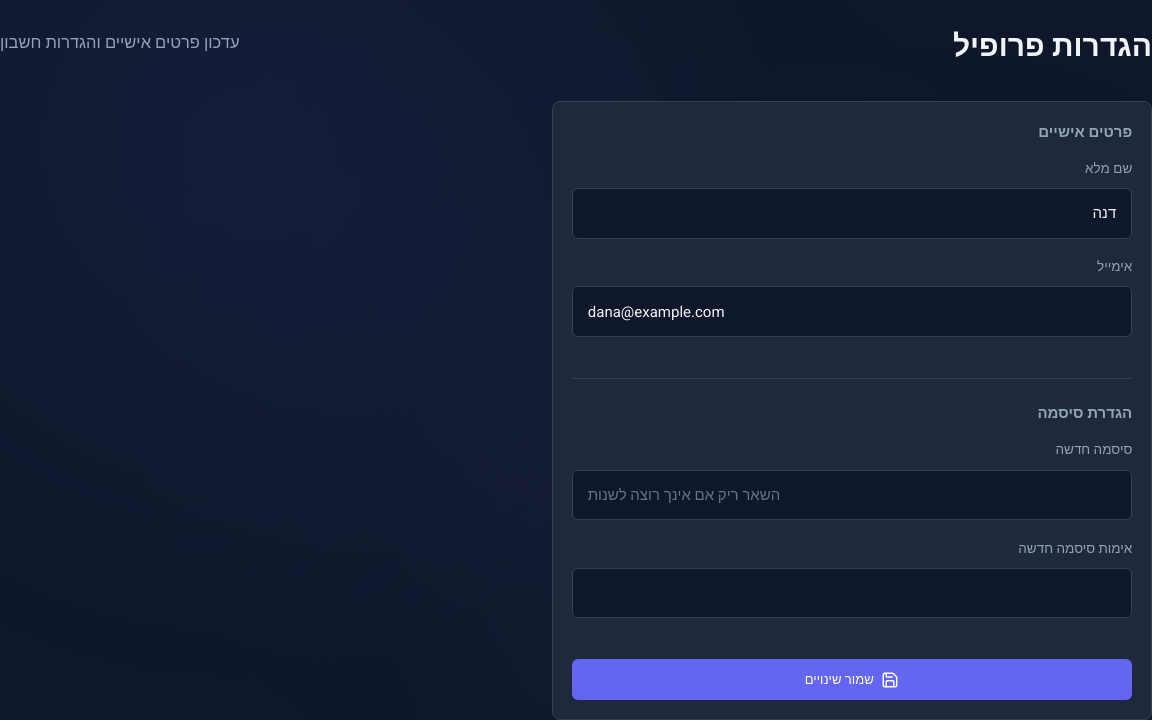
Test: Profile - password › a passkey-only account sets a first password without a current one
The width and height of the screenshot is (1152, 720).
Expected: the heading "הגדרת סיסמה" is shown, left=1037, top=402, right=1132, bottom=424
Expected: the field labelled "סיסמה נוכחית" is not shown
Type "first-pass" into the password field labelled "סיסמה חדשה" at [852, 495], box left=572, top=470, right=1132, bottom=520
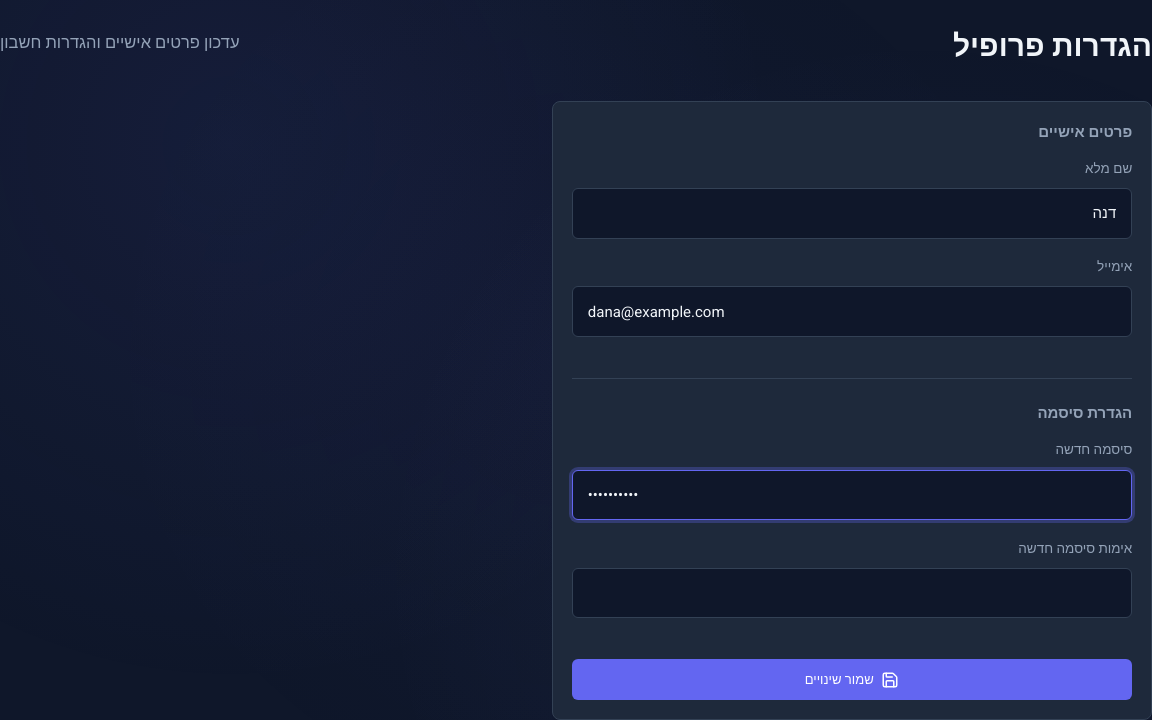
Type "first-pass" into the password field labelled "אימות סיסמה חדשה" at [852, 593], box left=572, top=568, right=1132, bottom=618
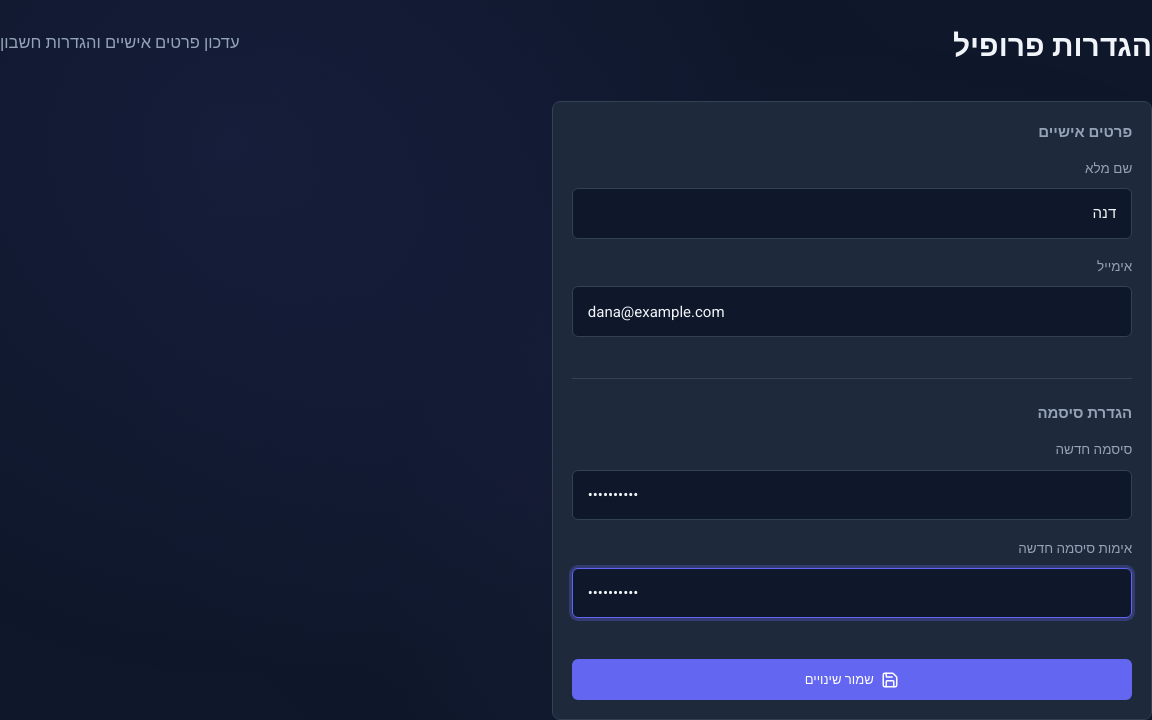
Click the button "שמור שינויים" at [852, 680], box left=572, top=659, right=1132, bottom=700
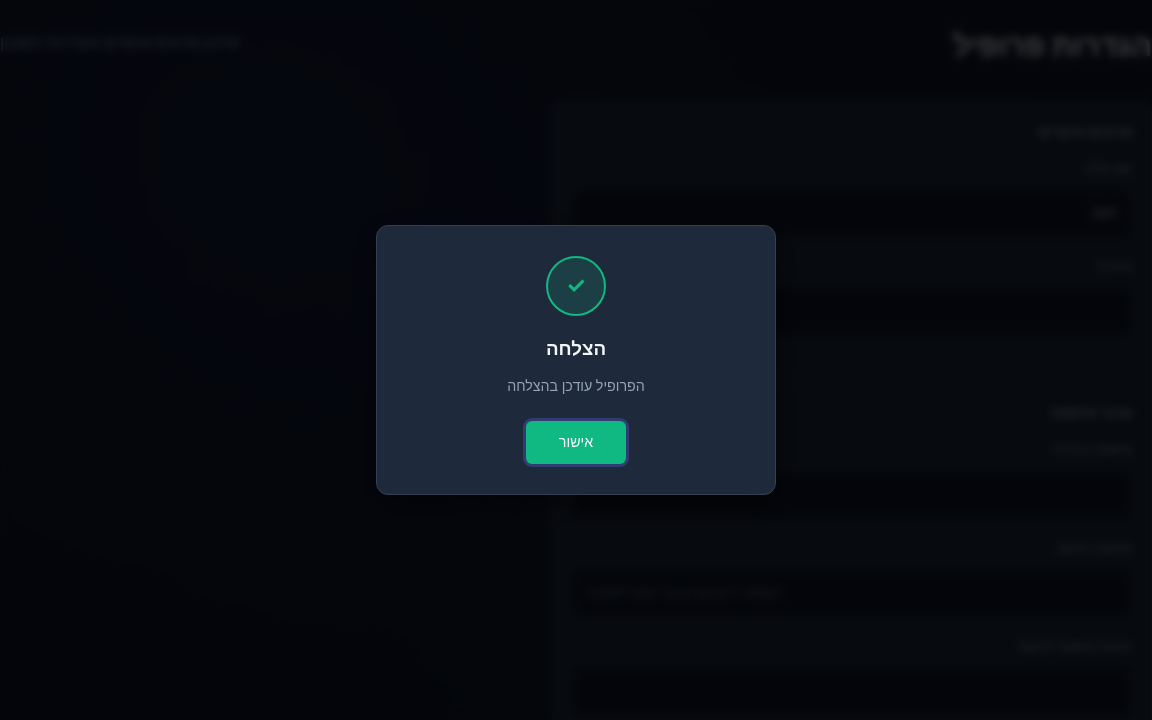
Expected: the text "הפרופיל עודכן בהצלחה" is shown, left=507, top=376, right=645, bottom=397
Expected: the password field labelled "סיסמה נוכחית" is shown, left=572, top=470, right=1132, bottom=520
